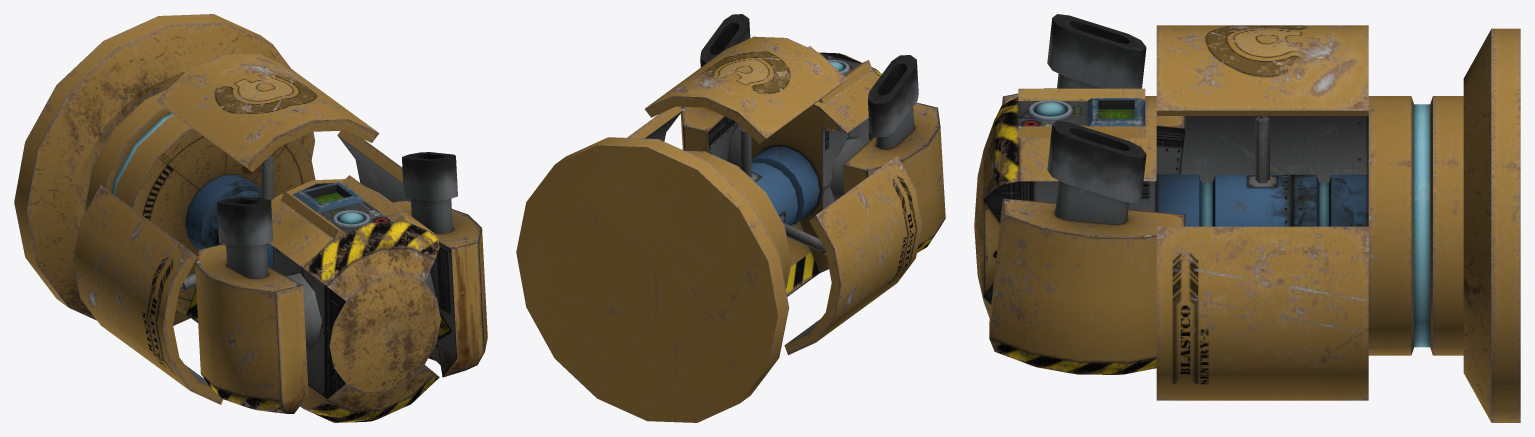
File: sentry2.obj
The picture shows the model from 3 angles, left to right: view 1: azimuth 30°, elevation 25°; view 2: azimuth 150°, elevation 25°; view 3: azimuth 270°, elevation 25°; orthographic projection. The views are drawn at different scales.
Parts seen in each view (by area): view 1: Sentry-2; view 2: Sentry-2; view 3: Sentry-2.
Boxes of the visible parts, x1,y1,x2,y2 form: Sentry-2: (14, 14, 487, 422); Sentry-2: (516, 14, 945, 422); Sentry-2: (974, 14, 1520, 422).
Bounding box in the file's own units: 1.27 × 1.26 × 1.7.
Materials: 1 (1 with a texture image).
